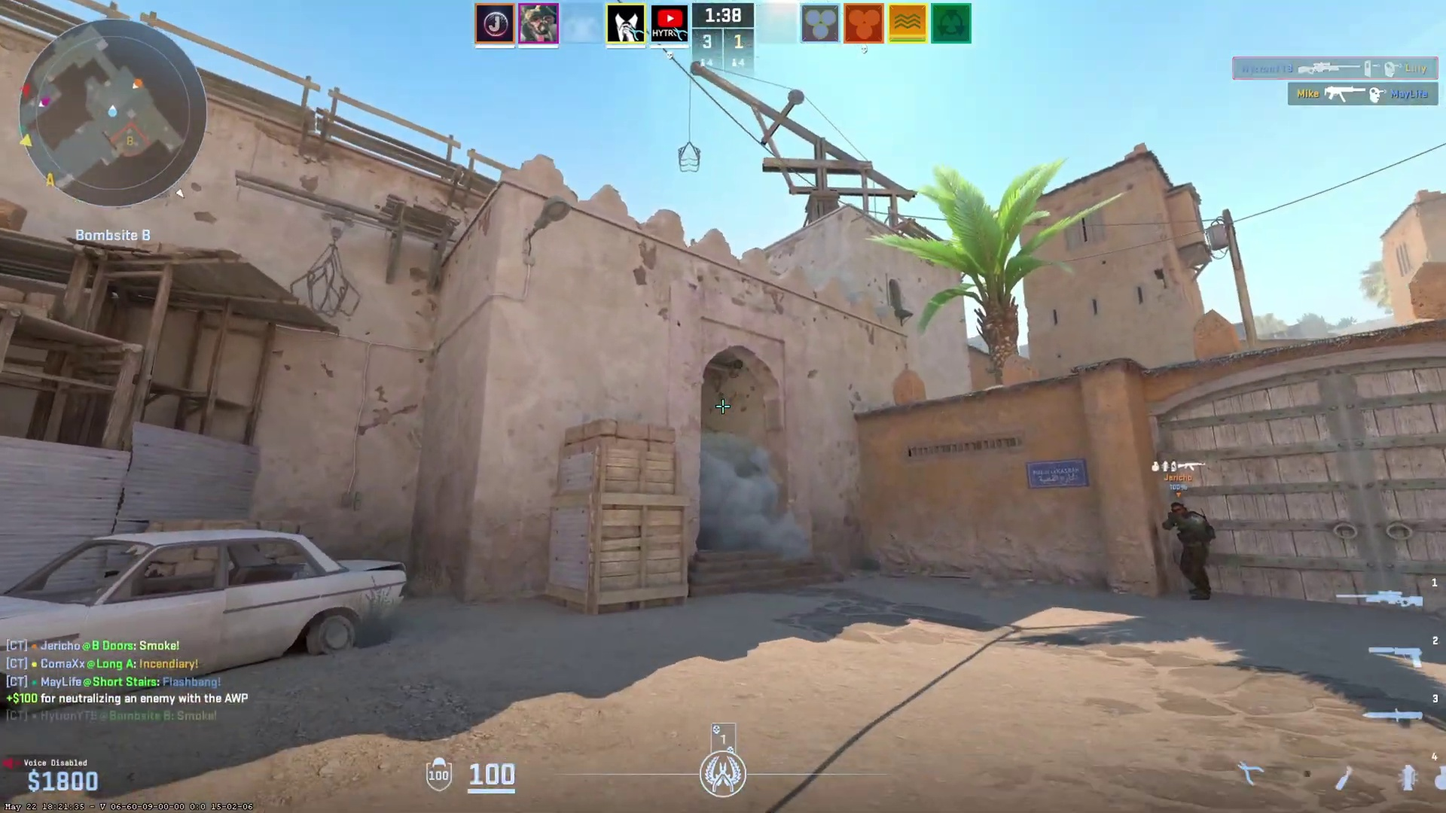CT: (1163, 502, 1215, 600)
